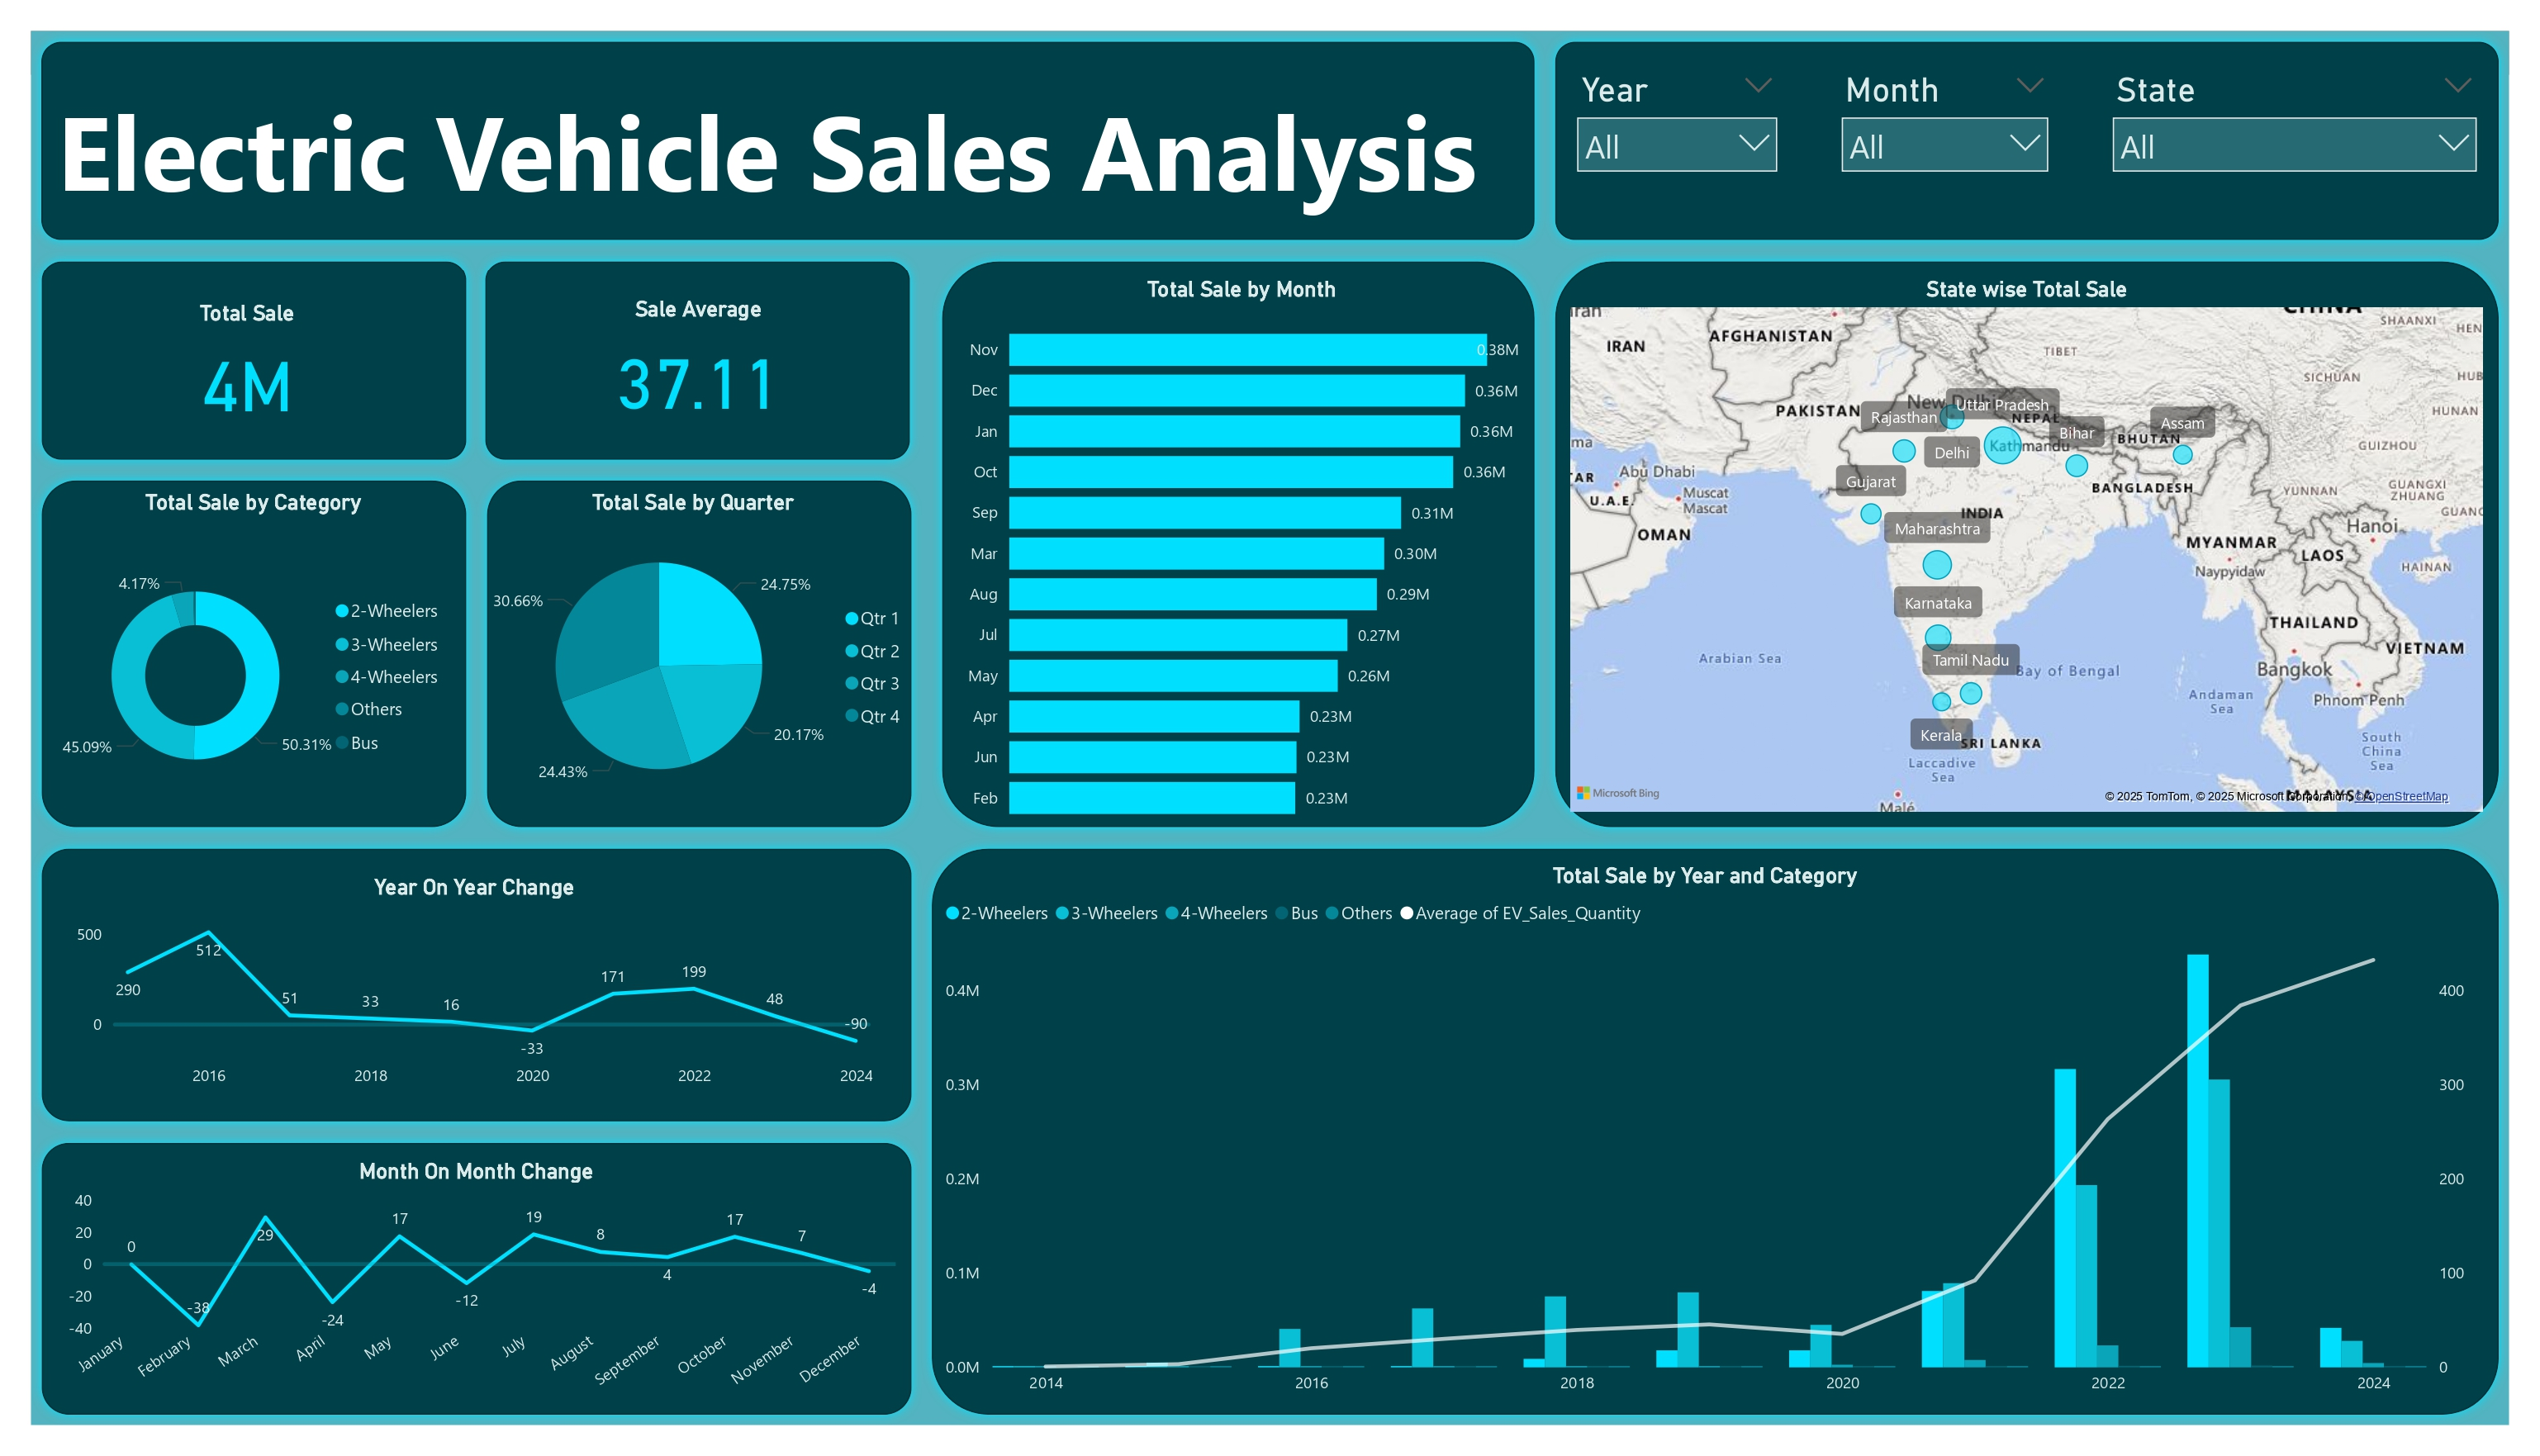

Layout of this report page (visuals, bound fields, positions):
{"tool":"powerbi","page":{"name":"Page 13","canvas":[1920,1080],"ordinal":12},"visuals":[{"type":"shape","title":"xcv cxbgfvb","box":[344.4,169.7,344.4,170.7],"z":0},{"type":"shape","title":"xcv cxbgfvb","box":[0,170,345,170],"z":1000},{"type":"shape","title":"xcv cxbgfvb","box":[690,625,1230,455],"z":2000},{"type":"lineClusteredColumnComboChart","title":"Total Sale by State and Category","fields":{"Y":["Sum(ev.EV_Sales_Quantity)"],"Y2":["Avg(ev.EV_Sales_Quantity)"],"Series":["ev.Vehicle_Category"],"Category":["ev.State"]},"box":[686,626,1230,454],"z":3000},{"type":"shape","title":"xcv cxbgfvb","box":[0,852.5,690,227.5],"z":4000},{"type":"lineChart","title":"Month On Month Change","fields":{"Y":["DAX.MOM"],"Category":["ev.Date.Variation.Date Hierarchy.Month"]},"box":[0,852.5,690,227.5],"z":5000},{"type":"shape","title":"xcv cxbgfvb","box":[1172.5,170,747.5,455],"z":6000},{"type":"lineClusteredColumnComboChart","title":"Total Sale by Year and Category","fields":{"Y":["Sum(ev.EV_Sales_Quantity)"],"Y2":["Avg(ev.EV_Sales_Quantity)"],"Series":["ev.Vehicle_Category"],"Category":["ev.Date.Variation.Date Hierarchy.Year"]},"box":[1172.5,170,747.5,455],"z":7000},{"type":"shape","title":"xcv cxbgfvb","box":[0,625,690,227.5],"z":8000},{"type":"shape","title":"xcv cxbgfvb","box":[345,340,345,285],"z":9000},{"type":"shape","title":"xcv cxbgfvb","box":[0,340,345,285],"z":10000},{"type":"donutChart","title":"Total Sale by Category","fields":{"Category":["ev.Vehicle_Category"],"Y":["Sum(ev.EV_Sales_Quantity)"]},"box":[0,335,345,305],"z":11000},{"type":"pieChart","title":"Total Sale by Quarter","fields":{"Y":["Sum(ev.EV_Sales_Quantity)"],"Category":["ev.Date.Variation.Date Hierarchy.Quarter"]},"box":[322.5,335,380,290],"z":12000},{"type":"shape","title":"xcv cxbgfvb","box":[1172.5,0,747.5,170],"z":13000},{"type":"shape","title":"xcv cxbgfvb","box":[697.5,170,475,455],"z":14000},{"type":"clusteredBarChart","title":"Total Sale by Month","fields":{"Y":["Sum(ev.EV_Sales_Quantity)"],"Category":["ev.Month_Name"]},"box":[702.5,170,470,470],"z":15000},{"type":"lineChart","title":"Year On Year Change","fields":{"Category":["ev.Date.Variation.Date Hierarchy.Year"],"Y":["DAX.YOY"]},"box":[26,644,590,210],"z":16000},{"type":"card","title":"Total Sale ","fields":{"Values":["Sum(ev.EV_Sales_Quantity)"]},"box":[0,187.9,335.4,137.4],"z":17000},{"type":"card","title":"Sale Average","fields":{"Values":["Avg(ev.EV_Sales_Quantity)"]},"box":[349.5,184.8,335.4,140.4],"z":18000},{"type":"shape","title":"xcv cxbgfvb","box":[0,0,1172.5,170],"z":19000},{"type":"textbox","box":[15,32.5,1125,137.5],"z":20000},{"type":"slicer","title":"Year","fields":{"Values":["ev.Date.Variation.Date Hierarchy.Year"]},"box":[1172.5,10,205,132.5],"z":21000},{"type":"slicer","title":"Year","fields":{"Values":["ev.Date.Variation.Date Hierarchy.Month"]},"box":[1377.5,10,210,132.5],"z":22000},{"type":"slicer","title":"Year","fields":{"Values":["ev.State"]},"box":[1587.5,10,332.5,132.5],"z":23000}]}

Visuals, with their boxes on the page's 1920x1080 design canvas (x1, y1, x2, y2). These are canvas units, not pixel positions in the 2540x1456 screenshot, which may show the page scaled, cropped or inside an application window:
"xcv cxbgfvb" shape: box=[344, 170, 689, 340]
"xcv cxbgfvb" shape: box=[0, 170, 345, 340]
"xcv cxbgfvb" shape: box=[690, 625, 1920, 1080]
"Total Sale by State and Category" lineClusteredColumnComboChart: box=[686, 626, 1916, 1080]
"xcv cxbgfvb" shape: box=[0, 852, 690, 1080]
"Month On Month Change" lineChart: box=[0, 852, 690, 1080]
"xcv cxbgfvb" shape: box=[1172, 170, 1920, 625]
"Total Sale by Year and Category" lineClusteredColumnComboChart: box=[1172, 170, 1920, 625]
"xcv cxbgfvb" shape: box=[0, 625, 690, 852]
"xcv cxbgfvb" shape: box=[345, 340, 690, 625]
"xcv cxbgfvb" shape: box=[0, 340, 345, 625]
"Total Sale by Category" donutChart: box=[0, 335, 345, 640]
"Total Sale by Quarter" pieChart: box=[322, 335, 702, 625]
"xcv cxbgfvb" shape: box=[1172, 0, 1920, 170]
"xcv cxbgfvb" shape: box=[698, 170, 1172, 625]
"Total Sale by Month" clusteredBarChart: box=[702, 170, 1172, 640]
"Year On Year Change" lineChart: box=[26, 644, 616, 854]
"Total Sale " card: box=[0, 188, 335, 325]
"Sale Average" card: box=[350, 185, 685, 325]
"xcv cxbgfvb" shape: box=[0, 0, 1172, 170]
textbox: box=[15, 32, 1140, 170]
"Year" slicer: box=[1172, 10, 1378, 142]
"Year" slicer: box=[1378, 10, 1588, 142]
"Year" slicer: box=[1588, 10, 1920, 142]
